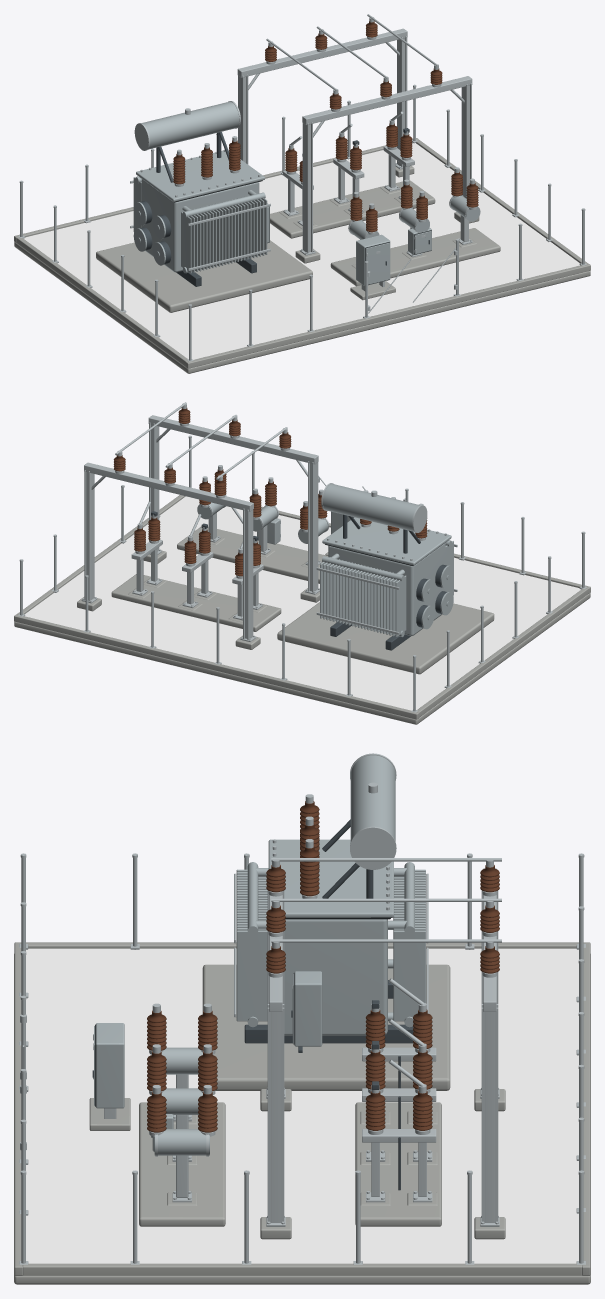
Rendered from substation-new.glb.
The picture shows the model from 3 angles, top to bottom: view 1: azimuth 30°, elevation 25°; view 2: azimuth 150°, elevation 25°; view 3: azimuth 270°, elevation 25°; orthographic projection. The views are drawn at different scales.
Parts seen in each view (by area): view 1: Inset crushed-stone bed export, Yard concrete foundation export, Transformer main oil tank export, Tank cover fastener export, Transformer HV bushing phase 1 export, Transformer base skid export; view 2: Inset crushed-stone bed export, Yard concrete foundation export, Tank cover fastener export, Transformer main oil tank export, Transformer HV bushing phase 1 export, Transformer base skid export; view 3: Inset crushed-stone bed export, Yard concrete foundation export, Transformer main oil tank export, Tank cover fastener export, Transformer HV bushing phase 1 export, Transformer base skid export.
Part boxes in pixels (x1=…): Inset crushed-stone bed export: x1=23, y1=143, x2=579, y2=359; Yard concrete foundation export: x1=14, y1=138, x2=590, y2=373; Transformer main oil tank export: x1=133, y1=101, x2=480, y2=285; Tank cover fastener export: x1=18, y1=14, x2=586, y2=361; Transformer HV bushing phase 1 export: x1=173, y1=21, x2=478, y2=232; Transformer base skid export: x1=140, y1=128, x2=429, y2=286; Inset crushed-stone bed export: x1=25, y1=496, x2=581, y2=710; Yard concrete foundation export: x1=14, y1=495, x2=590, y2=724; Tank cover fastener export: x1=18, y1=402, x2=586, y2=712; Transformer main oil tank export: x1=197, y1=484, x2=453, y2=637; Transformer HV bushing phase 1 export: x1=113, y1=408, x2=427, y2=576; Transformer base skid export: x1=151, y1=511, x2=447, y2=650; Inset crushed-stone bed export: x1=26, y1=948, x2=578, y2=1263; Yard concrete foundation export: x1=14, y1=942, x2=590, y2=1284; Transformer main oil tank export: x1=94, y1=755, x2=425, y2=1155; Tank cover fastener export: x1=19, y1=753, x2=585, y2=1264; Transformer HV bushing phase 1 export: x1=147, y1=801, x2=499, y2=1132; Transformer base skid export: x1=92, y1=819, x2=413, y2=1190.
Bounding box in the file's own units: 11.33 × 4.64 × 8.5.
